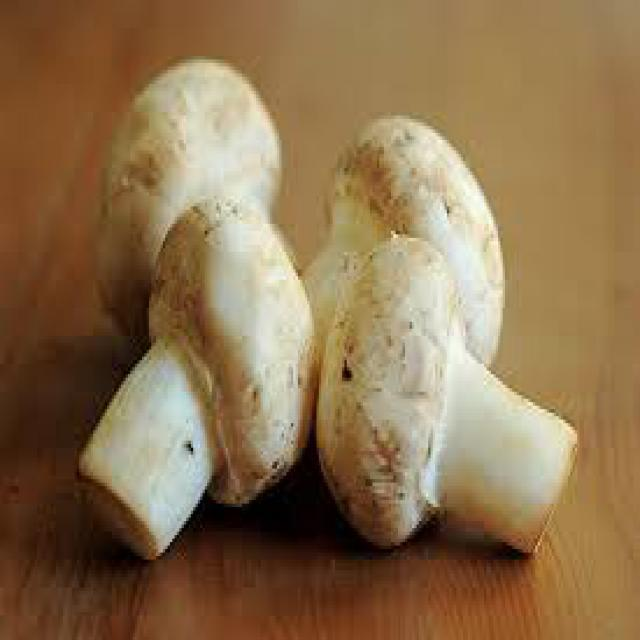Agaricus bisporus: (320, 235, 575, 575), (85, 210, 310, 558), (305, 126, 514, 378), (97, 68, 305, 293)
